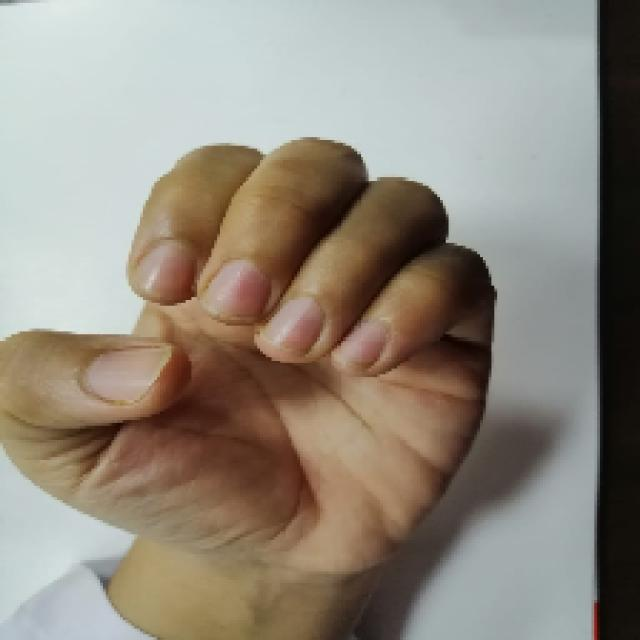Nail: (84, 345, 171, 403), (200, 260, 271, 324), (129, 240, 195, 304), (256, 298, 322, 361), (332, 320, 389, 371)
